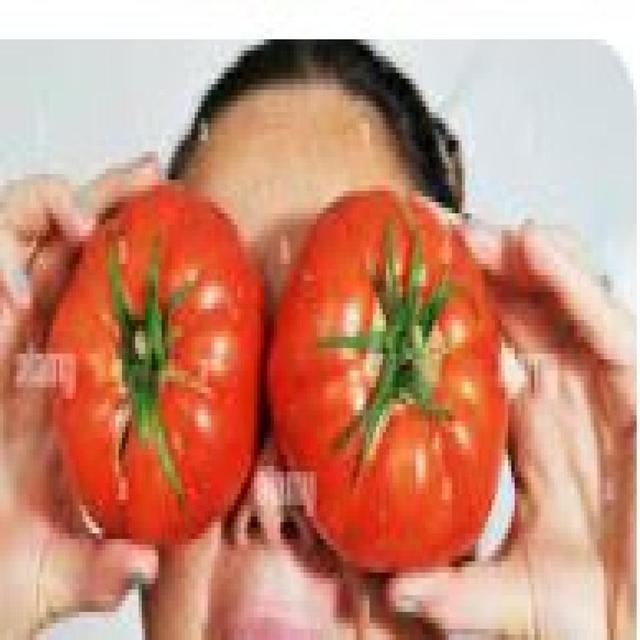Healthy Fruit: (180, 129, 330, 369)
